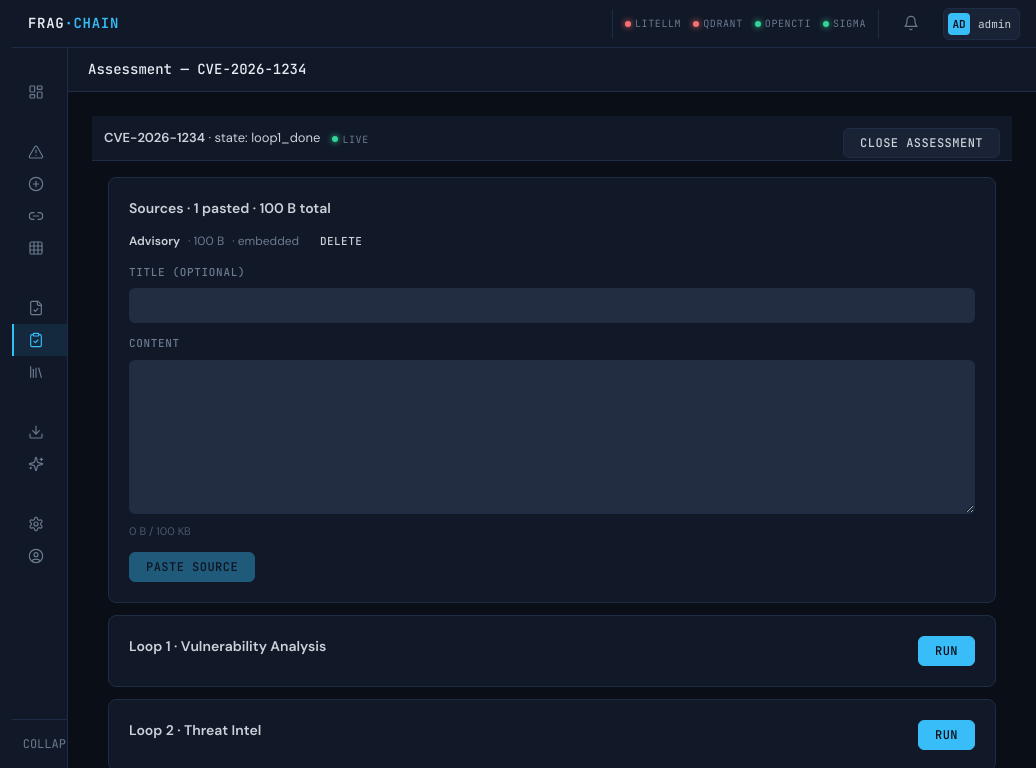
Test: AssessmentWorkspace › toasts the backend detail when deleteSource rejects
Click the button "delete" at {"x": 341, "y": 241}, box [307,230,375,252]
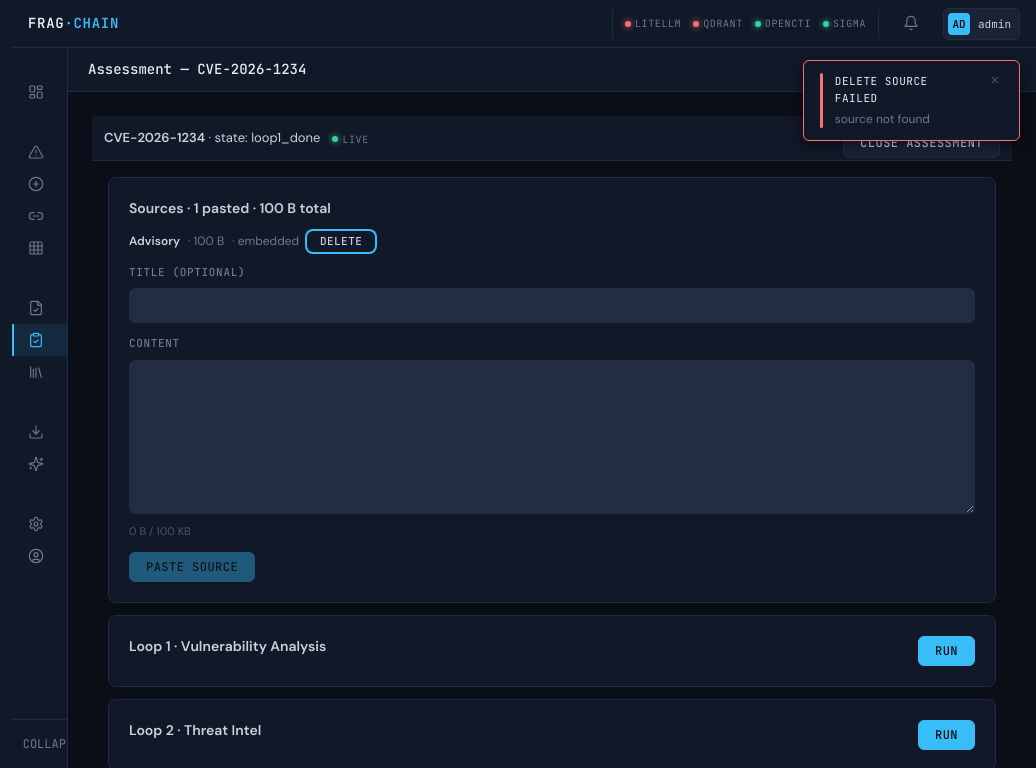
Expected: the text "source not found" is shown, [835,111,930,127]
